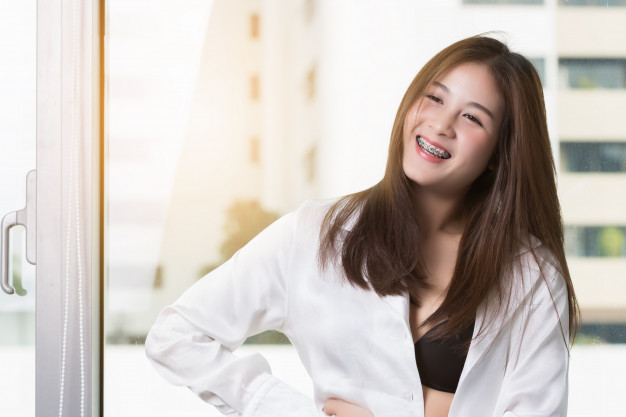smile: (396, 49, 497, 188)
